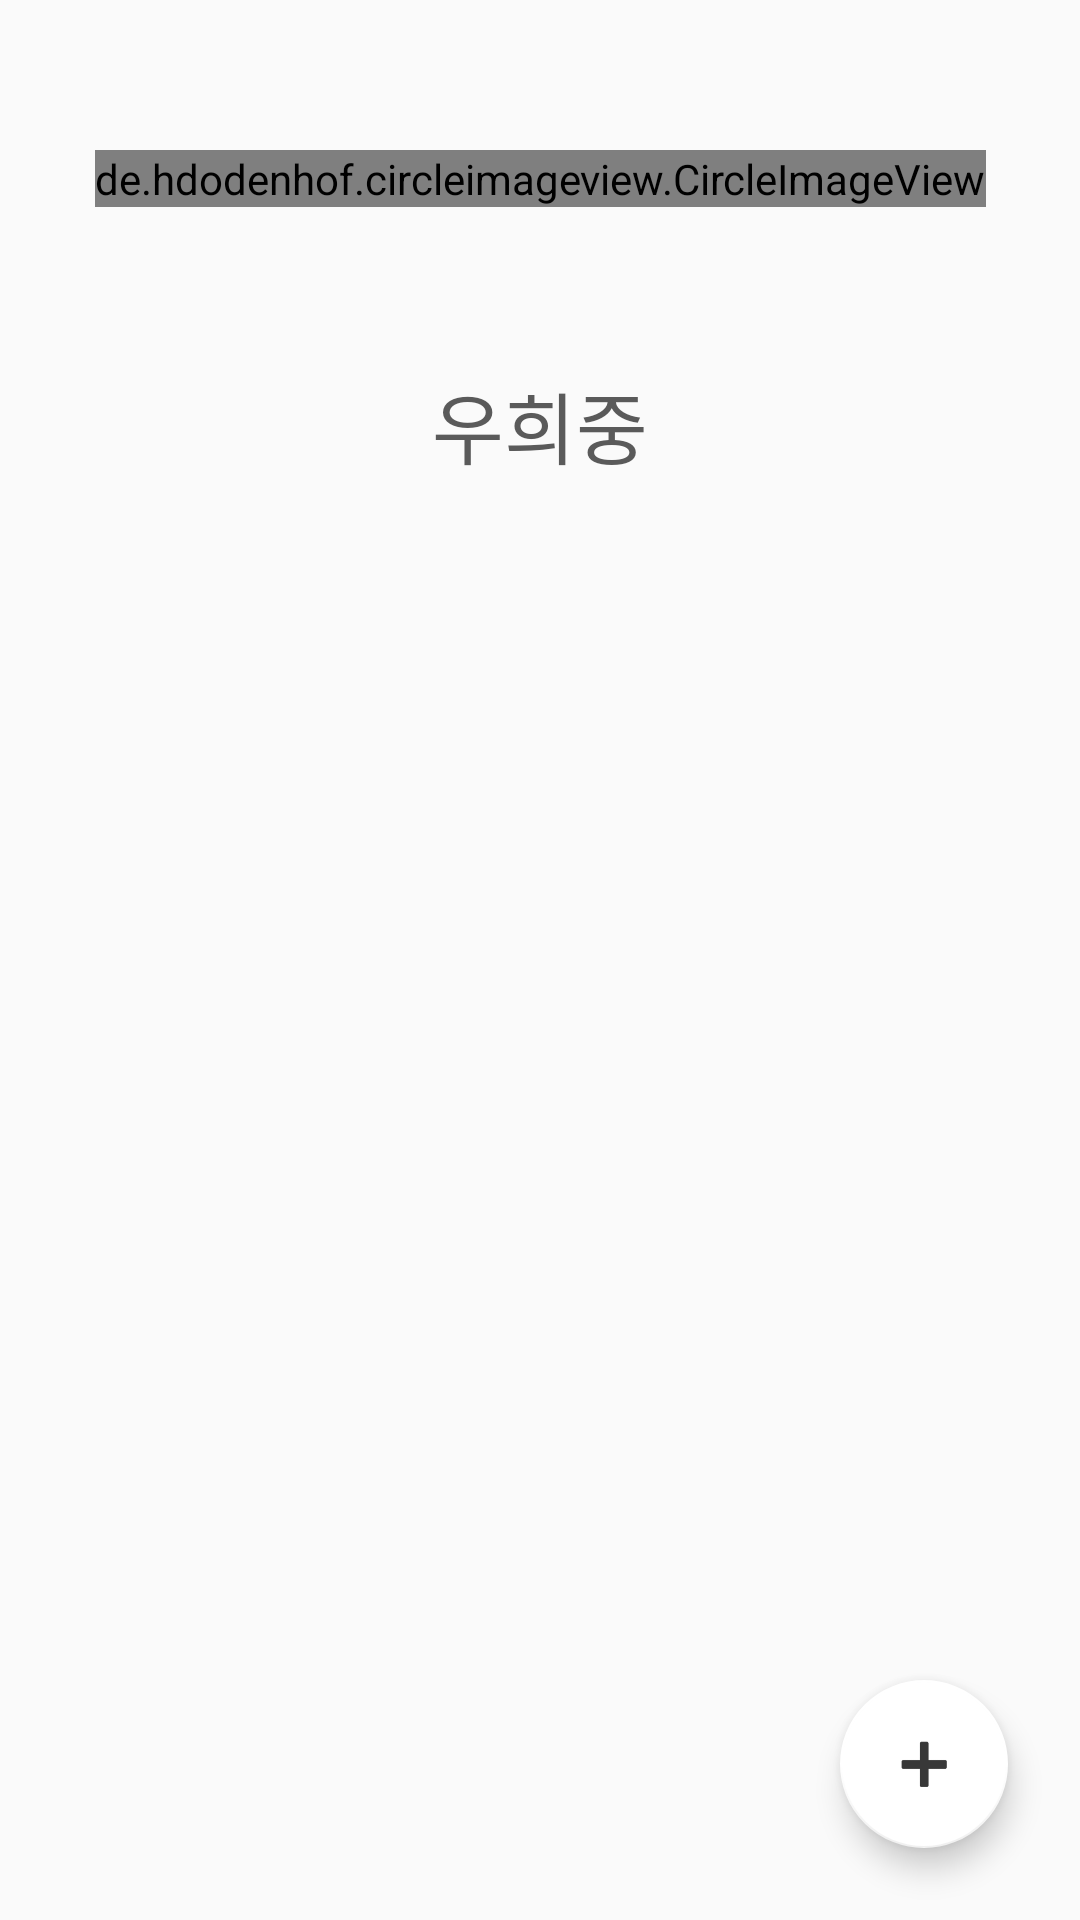

Point at icon controls on the screen. Image size 1080px×1920px, points as (x=x, y=y).
plusfeed: (x=926, y=1794)
